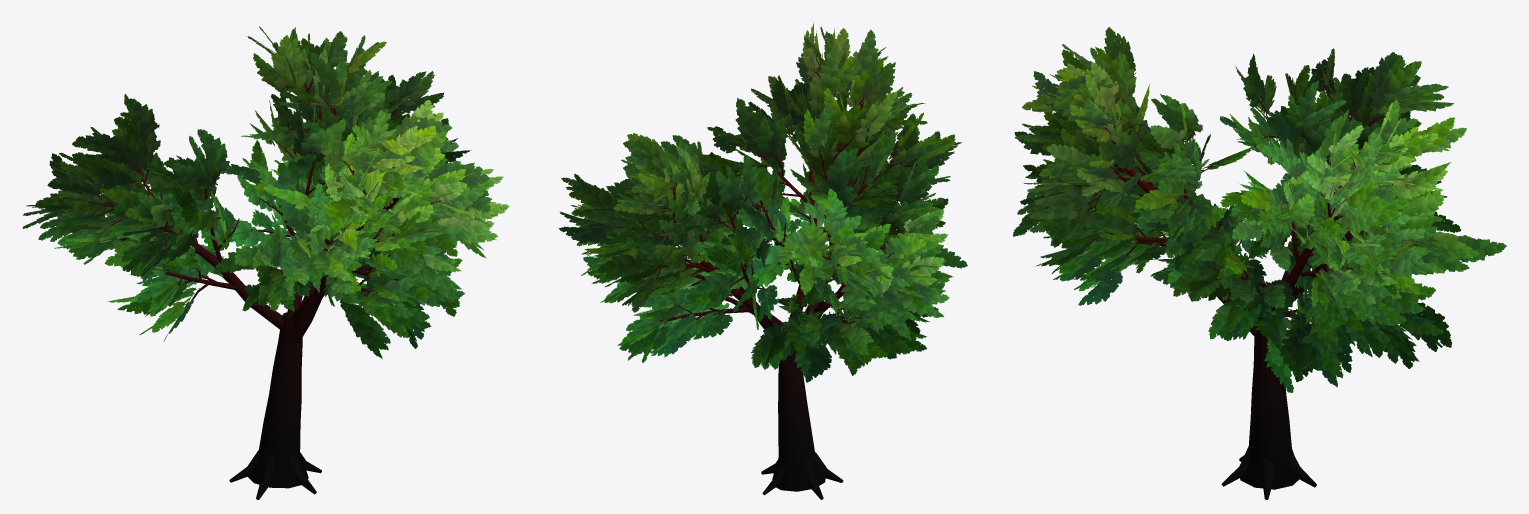
The model's file is SM_Tree_Oak.gltf.
3 renders of one model, left to right at view 1: azimuth 30°, elevation 25°; view 2: azimuth 150°, elevation 25°; view 3: azimuth 270°, elevation 25°, orthographic. The views are drawn at different scales.
Visible parts, largest first — view 1: SM_Tree_Oak; view 2: SM_Tree_Oak; view 3: SM_Tree_Oak.
Boxes of the visible parts, bbox=[...] form: SM_Tree_Oak: bbox=[22, 26, 509, 499]; SM_Tree_Oak: bbox=[558, 22, 967, 499]; SM_Tree_Oak: bbox=[1013, 27, 1506, 499].
Bounding box in the file's own units: 6.59 × 6.37 × 6.36.
2 materials, 2 textured.
